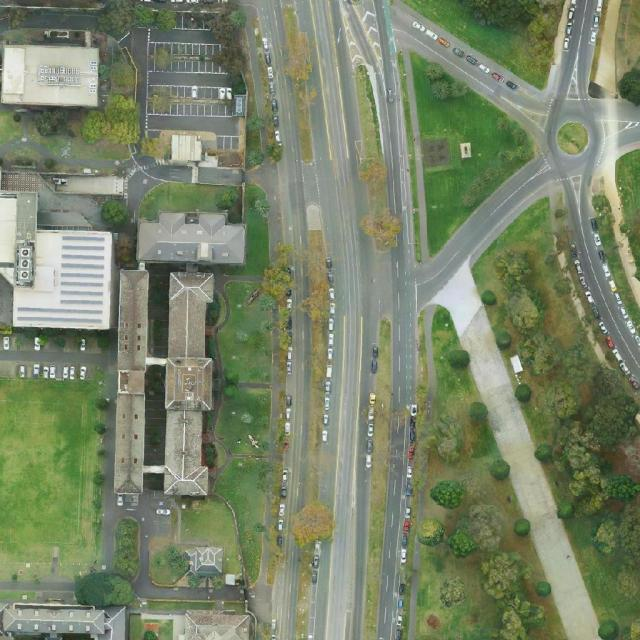building: (0, 192, 115, 329), (114, 269, 149, 496), (164, 357, 213, 496), (2, 44, 100, 108), (136, 211, 246, 264), (169, 272, 214, 357), (55, 175, 124, 194), (171, 134, 203, 161), (171, 613, 187, 640), (141, 612, 171, 620)
greenland: (464, 192, 640, 640), (410, 43, 542, 255), (0, 379, 104, 582), (415, 412, 496, 519), (206, 455, 272, 584), (414, 543, 499, 640), (476, 544, 550, 640), (18, 107, 131, 162), (217, 281, 275, 383), (213, 384, 275, 457), (431, 306, 476, 405), (258, 243, 297, 352), (96, 50, 140, 144), (136, 176, 224, 222), (237, 184, 277, 277), (210, 1, 246, 93), (447, 503, 503, 560), (97, 0, 176, 37), (285, 497, 340, 549), (74, 571, 135, 609), (110, 517, 145, 581), (149, 544, 190, 585), (468, 401, 494, 458), (96, 195, 133, 231), (34, 106, 70, 137), (429, 481, 466, 510), (0, 110, 24, 147), (484, 455, 514, 484), (418, 519, 445, 546), (510, 514, 535, 540), (476, 529, 502, 552), (216, 188, 239, 210), (449, 350, 470, 368), (535, 581, 551, 597)
metalled_road: (378, 96, 425, 405), (284, 265, 312, 513), (253, 158, 312, 251), (554, 0, 604, 103), (348, 233, 399, 322), (125, 153, 245, 186), (141, 585, 245, 616), (268, 44, 301, 134), (104, 492, 170, 533), (373, 0, 400, 91), (241, 0, 286, 54), (547, 97, 606, 131), (279, 131, 306, 205), (544, 149, 602, 181), (147, 115, 238, 134), (20, 10, 98, 31), (117, 26, 151, 74), (135, 536, 157, 599), (149, 73, 231, 86), (98, 517, 117, 571), (150, 28, 217, 43), (0, 5, 31, 33), (127, 171, 149, 210)
unmetalled_road: (594, 0, 621, 94)
